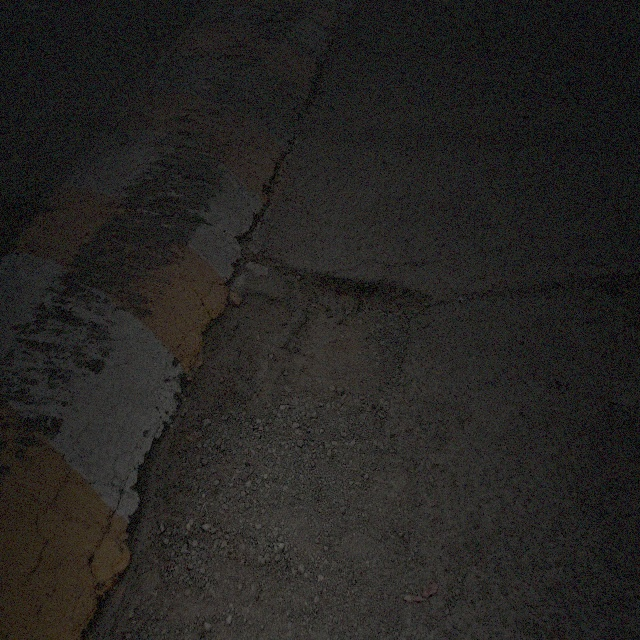pothole: (245, 258, 430, 426), (576, 264, 637, 334)
